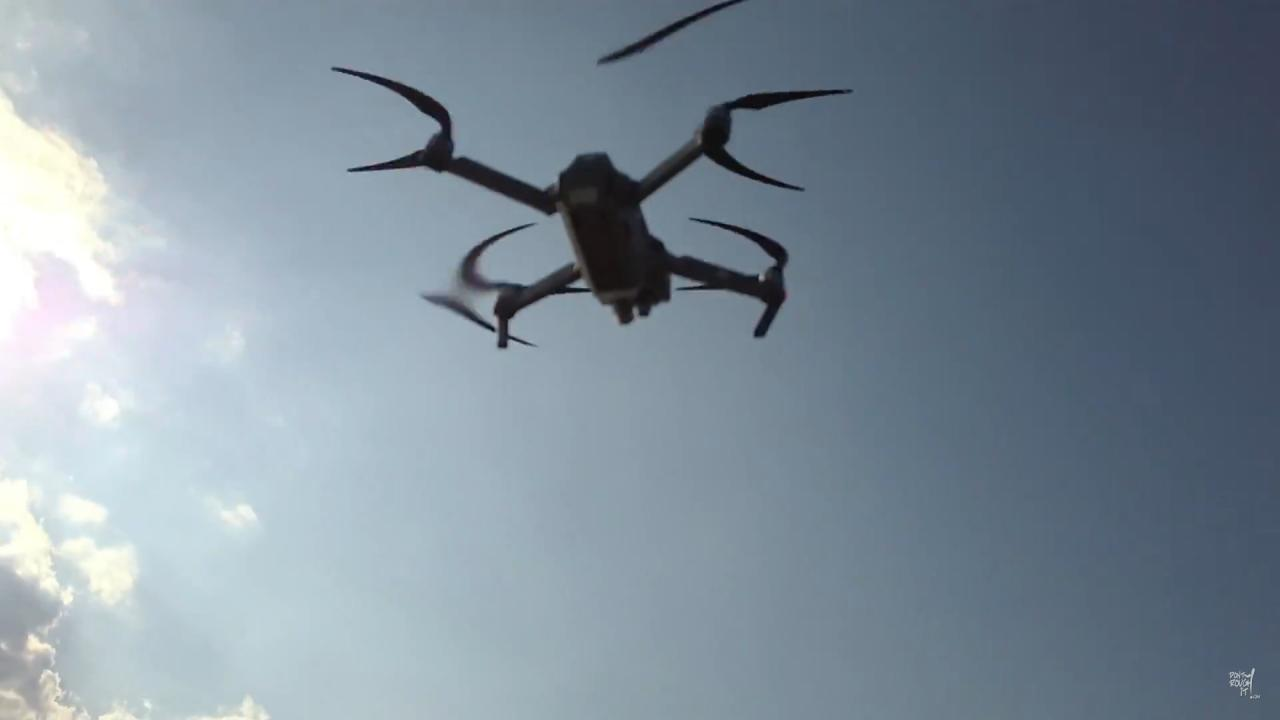Drone: (310, 46, 870, 358)
